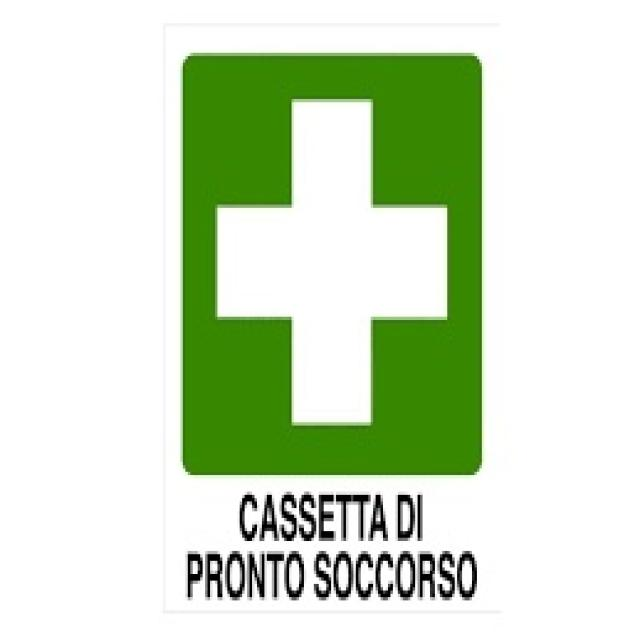first-aid: (181, 55, 482, 472)
